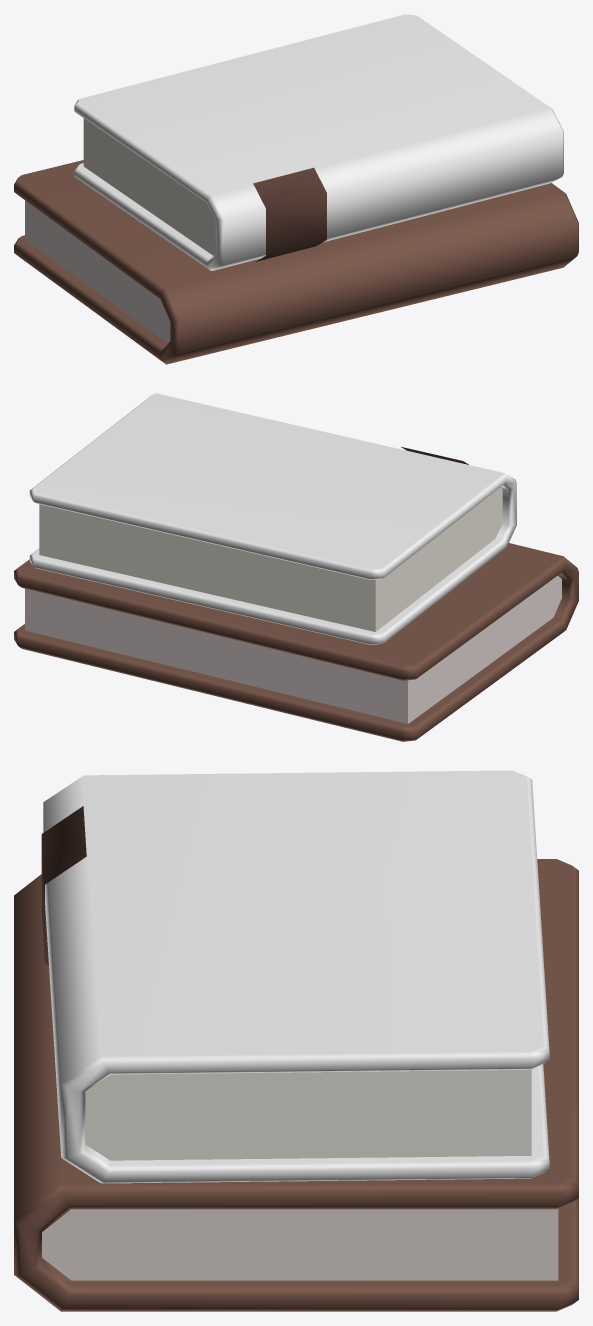
The model's file is prop_043.fbx.
3 renders of one model, top to bottom at view 1: azimuth 30°, elevation 25°; view 2: azimuth 150°, elevation 25°; view 3: azimuth 270°, elevation 25°, orthographic. The views are drawn at different scales.
Parts seen in each view (by area): view 1: prop_043; view 2: prop_043; view 3: prop_043.
Boxes of the visible parts, left/top/right/bottom form: prop_043: left=14, top=14, right=578, bottom=364; prop_043: left=14, top=393, right=578, bottom=741; prop_043: left=14, top=770, right=578, bottom=1311.
Bounding box in the file's own units: 42.51 × 30.67 × 15.4.
